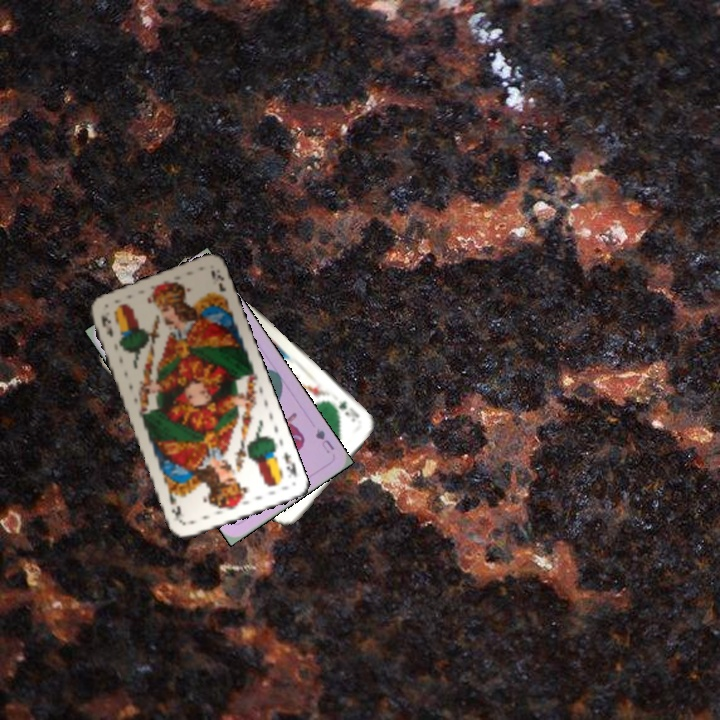EK: (279, 448, 299, 480), (97, 311, 116, 339)
GK: (334, 397, 362, 425)
GU: (311, 424, 337, 456)
